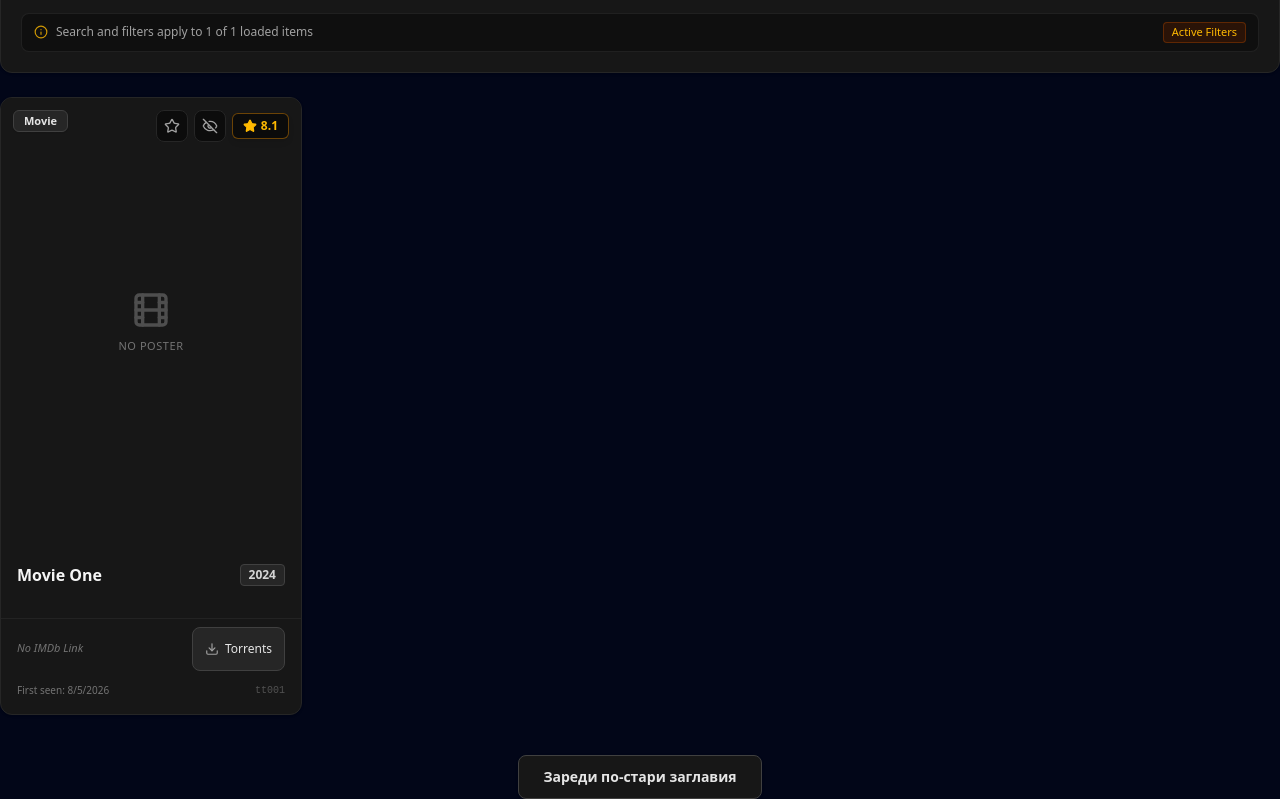
Test case: Catalog Query and Pagination › loads older titles by category and continues with the catalog cursor
(page scrolled)
Expected: the heading "Movie One" is shown, [17,564,102,586]
Step 1. Click the button with test id "catalog-load-more-button" → (640, 777), box [518,755,762,798]
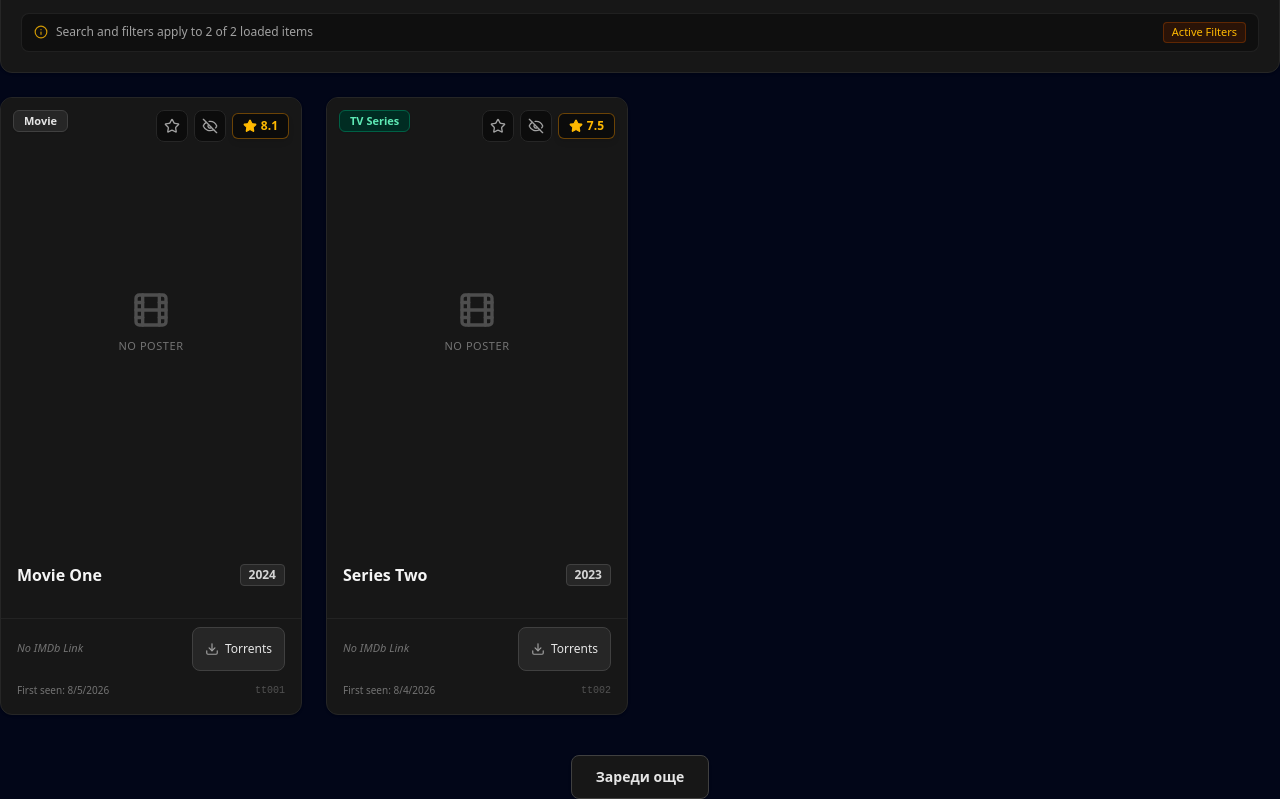
Expected: the heading "Series Two" is shown, [343,564,428,586]
Expected: the number of elements with test id "title-card" is 2, [0,97,302,715]; [326,97,628,715]
Expected: the button with test id "catalog-load-more-button" reads "Зареди още"
Step 2. Click the button with test id "catalog-load-more-button" → (640, 777), box [571,755,709,798]
(page scrolled)
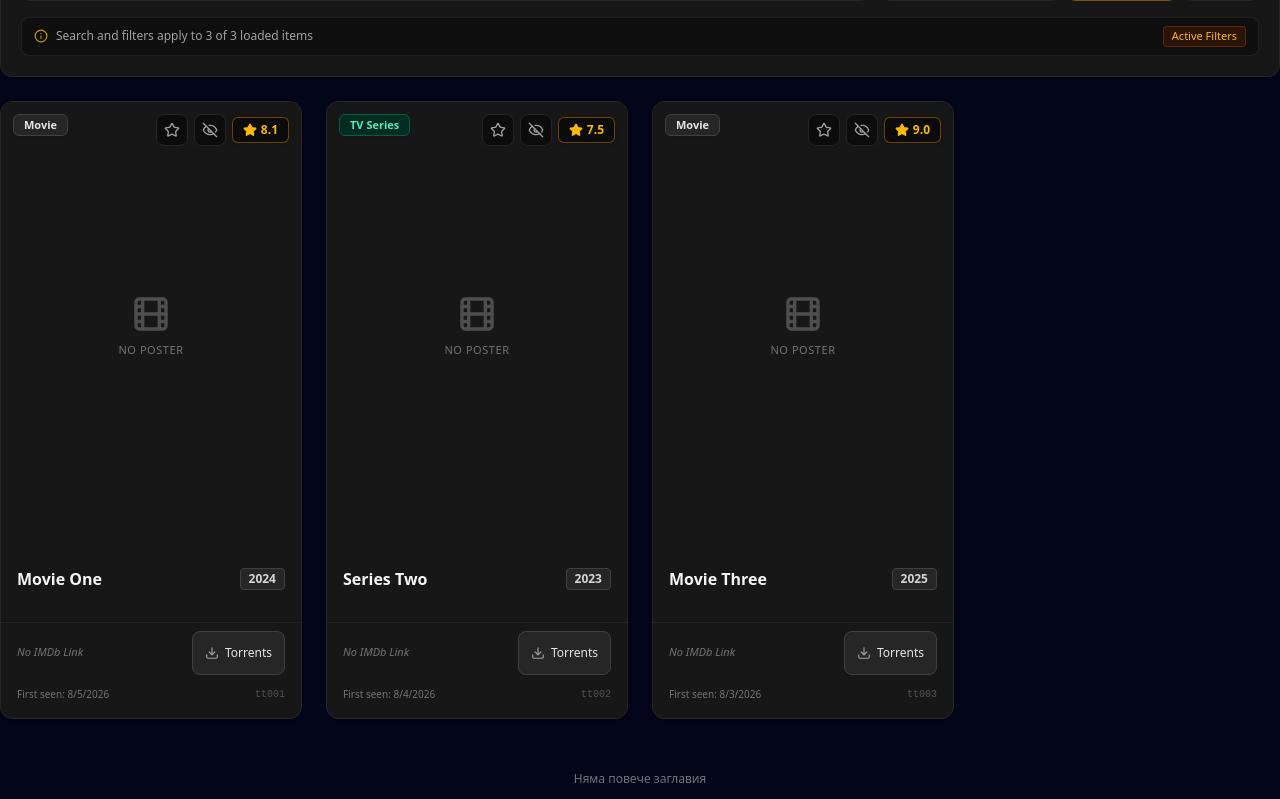
Expected: the heading "Movie Three" is shown, [669,568,767,590]
Expected: the number of elements with test id "title-card" is 3, [0,101,302,719]; [326,101,628,719]; [652,101,954,719]
Expected: the text with test id "catalog-end-of-results" reads "Няма повече заглавия", [574,770,706,787]
